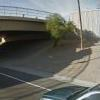Bridge: (4, 4, 68, 38)
